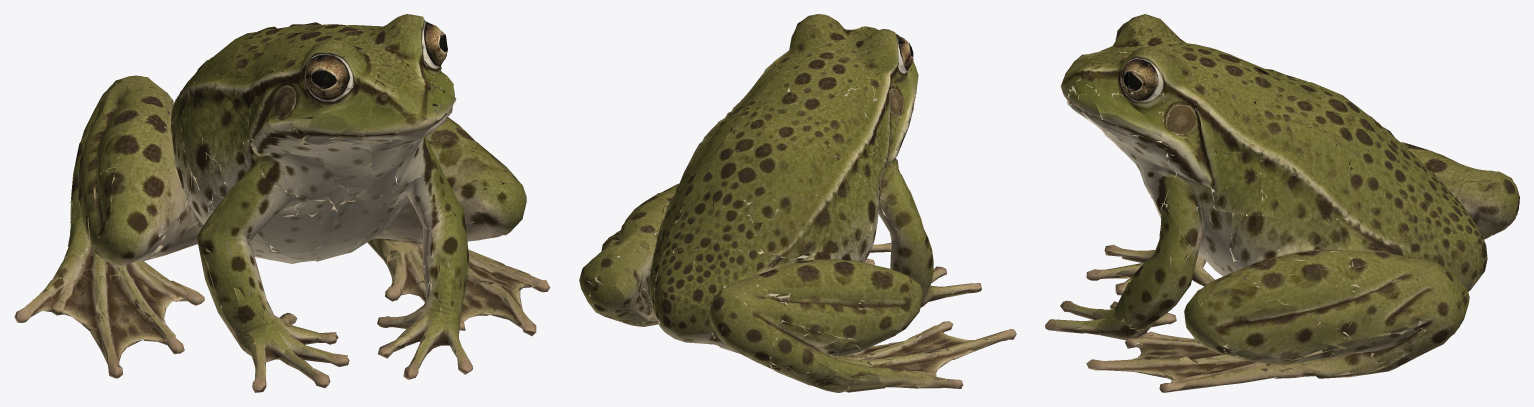
The model's file is frog.glb.
The picture shows the model from 3 angles, left to right: view 1: azimuth 30°, elevation 25°; view 2: azimuth 150°, elevation 25°; view 3: azimuth 270°, elevation 25°; orthographic projection. The views are drawn at different scales.
Visible parts, largest first — view 1: Mesh_0; view 2: Mesh_0; view 3: Mesh_0.
Boxes of the visible parts, x1,y1,x2,y2 form: Mesh_0: (14, 14, 550, 392); Mesh_0: (579, 14, 1016, 392); Mesh_0: (1045, 14, 1519, 392).
Bounding box in the file's own units: 1.74 × 1.21 × 1.84.
1 material, 1 textured.
